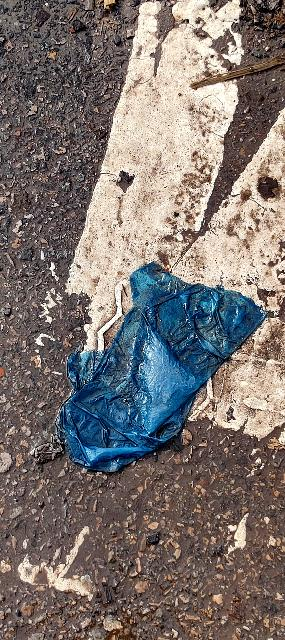polythene: (63, 252, 270, 476)
